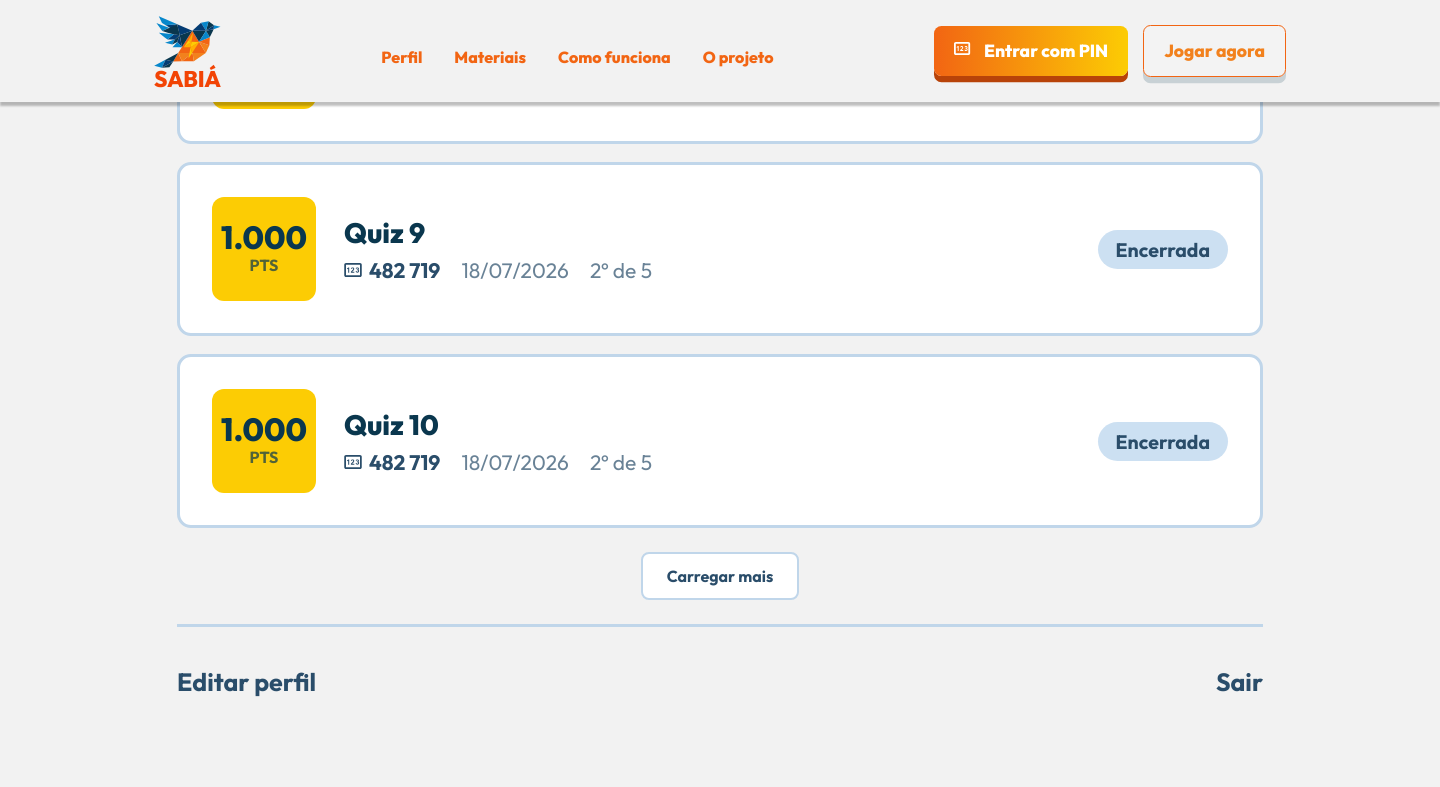
Test case: Meu histórico › carrega a próxima página
This screenshot has width=1440, height=787.
(page scrolled)
Click the button "Carregar mais".
click(720, 576)  # box [641, 552, 799, 600]
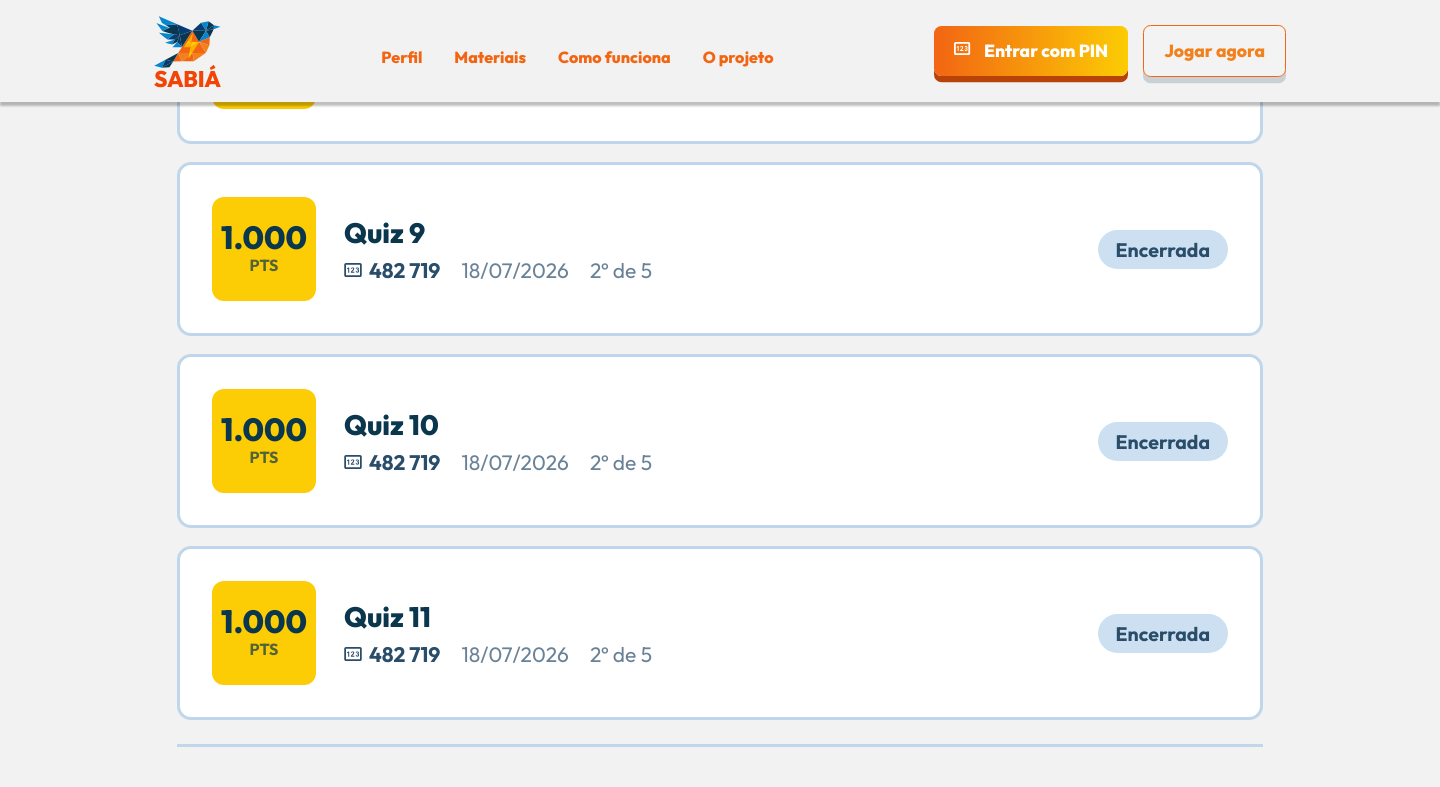
Now the link with aria-label "Ver resumo: Quiz 11" is shown, box [177, 546, 1263, 720]
Now the button "Carregar mais" is gone
